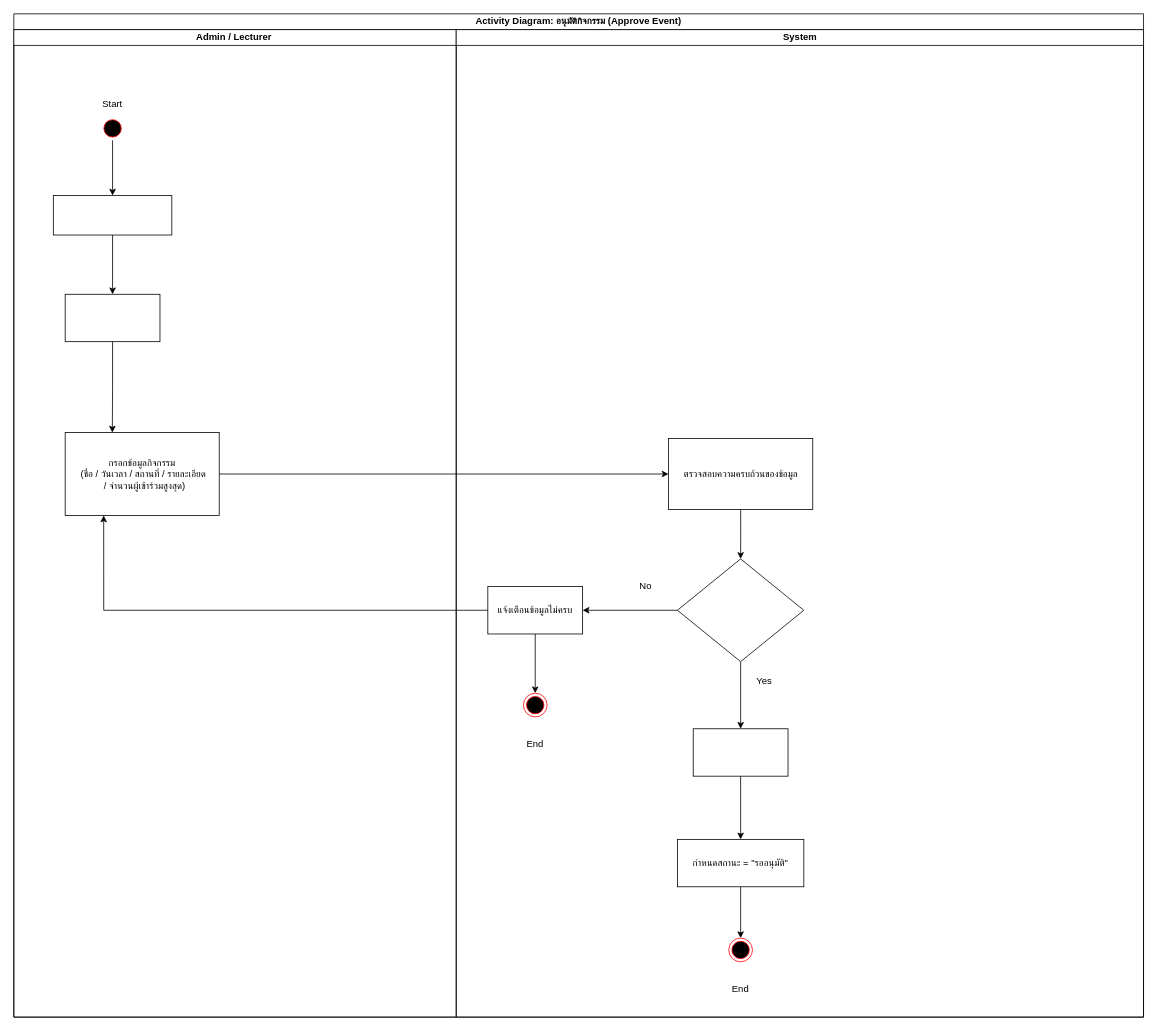
Image size: 1157x1031. Some labels were removed from this diagram. Each missing label, with the centre of its shape:
ข้อมูลครบถ้วนหรือไม่: (x=740, y=610)
สร้างกิจกรรมใหม่ (บันทึกลงระบบ): (x=740, y=752)
เข้าสู่ระบบ: (x=112, y=215)
เลือกเมนู "สร้างกิจกรรมใหม่": (x=112, y=317)
